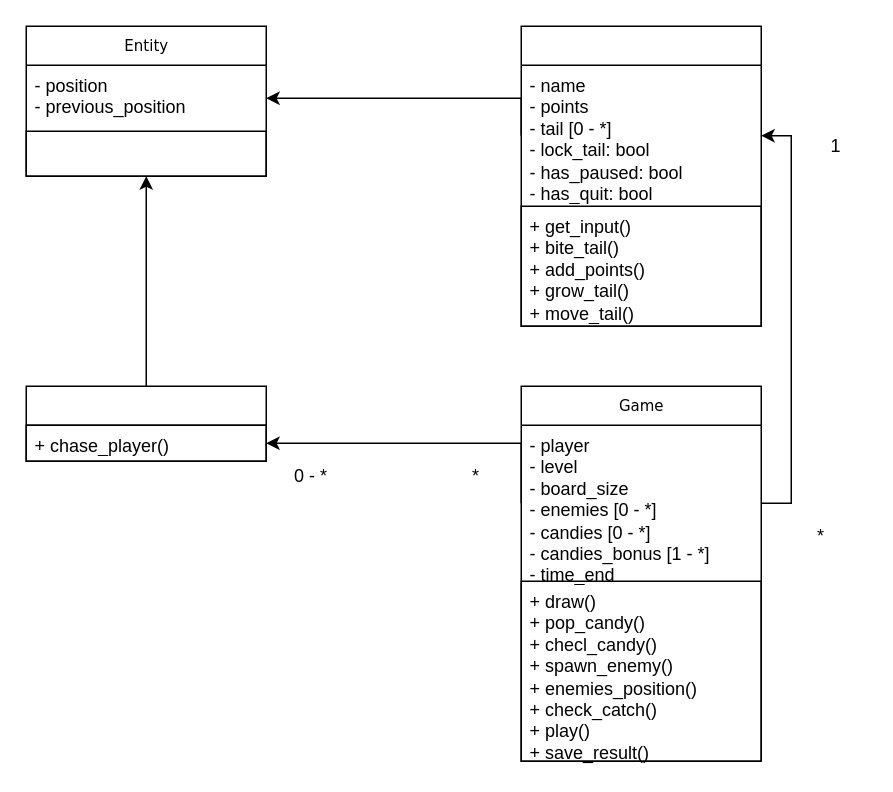
Some shapes in this 893 by 792 pixel diagram are drawn without their labels. Here are the shapes that lost their labels. From the top down, the box of each, then its label:
(25, 130, 266, 176): + move()
(520, 25, 761, 326): Player
(25, 385, 266, 461): Enemy
